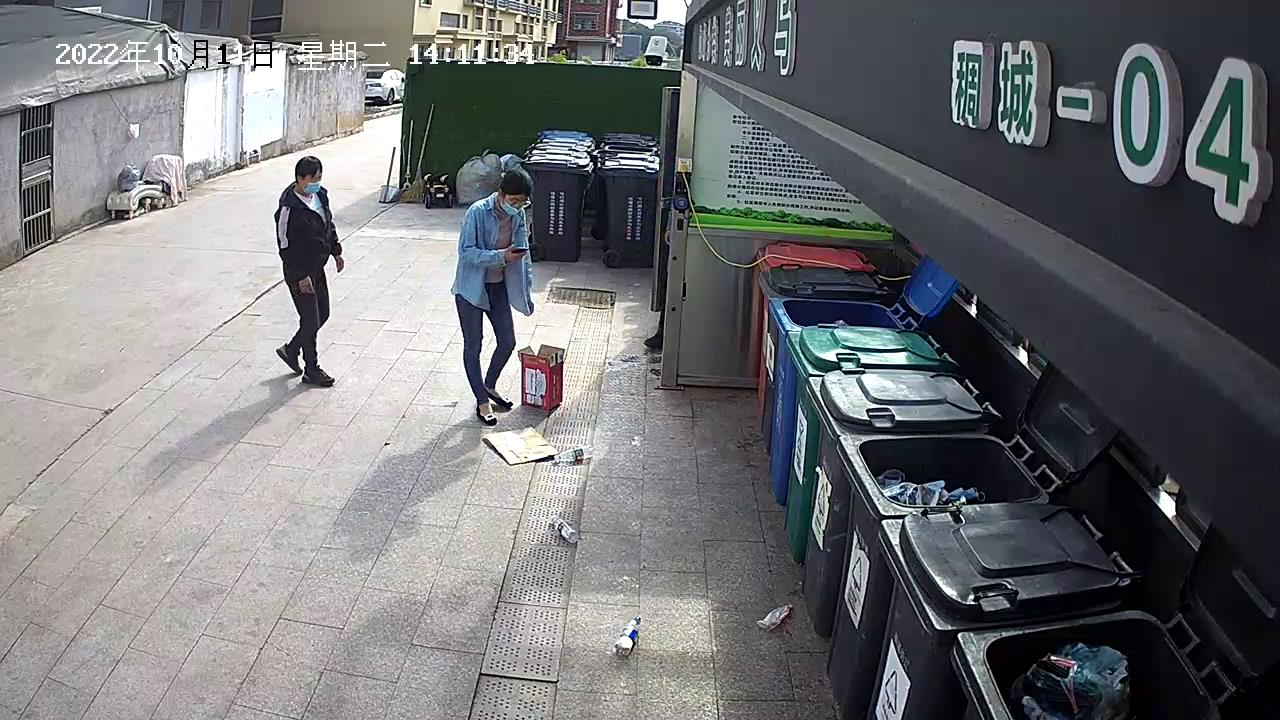person: (448, 168, 537, 427), (272, 153, 346, 390)
suliaozhipin: (610, 614, 644, 660), (756, 602, 795, 632), (547, 508, 579, 543), (553, 442, 596, 466)
zhizhipin: (478, 424, 563, 467), (515, 343, 569, 410)
